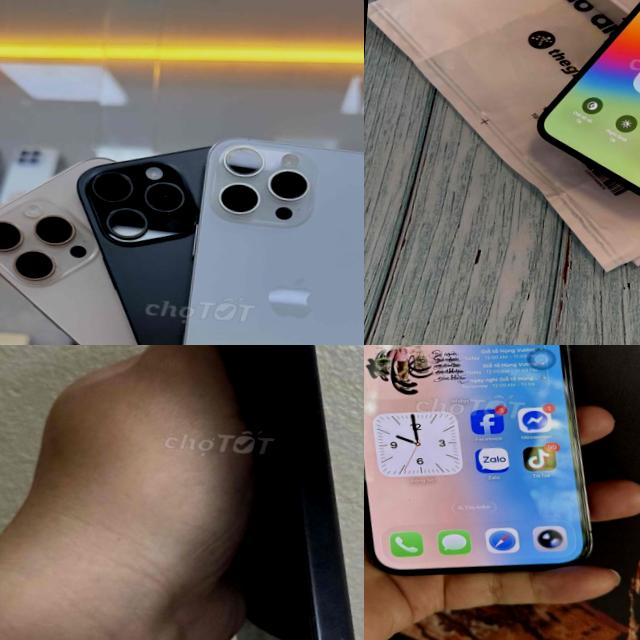scratch: (306, 610, 364, 640)
